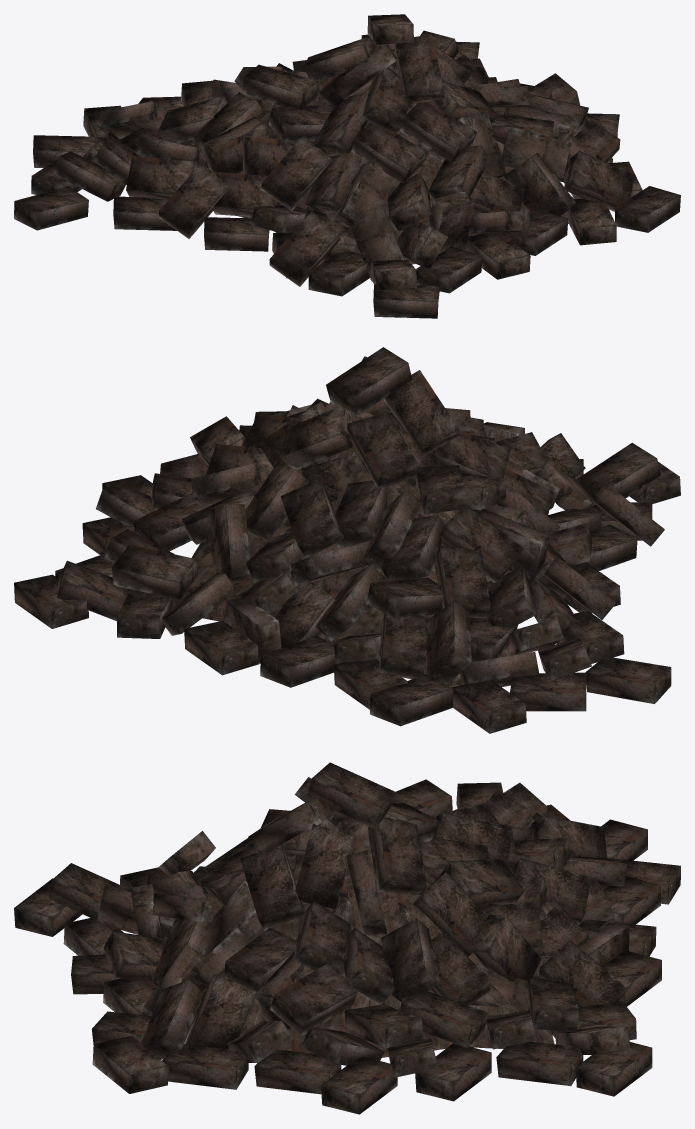
File: brick_pile_large.dae
The picture shows the model from 3 angles, top to bottom: view 1: azimuth 30°, elevation 25°; view 2: azimuth 150°, elevation 25°; view 3: azimuth 270°, elevation 25°; orthographic projection. The views are drawn at different scales.
Parts seen in each view (by area): view 1: polySurface278, polySurface277; view 2: polySurface278, polySurface277; view 3: polySurface278, polySurface277.
Part boxes in pixels (x1,y1,x2,y2): polySurface278: (14, 14, 680, 318); polySurface277: (180, 51, 574, 264); polySurface278: (14, 347, 680, 733); polySurface277: (172, 411, 529, 687); polySurface278: (14, 762, 680, 1114); polySurface277: (185, 822, 554, 1057).
Bounding box in the file's own units: 2.34 × 0.7485 × 2.12.
